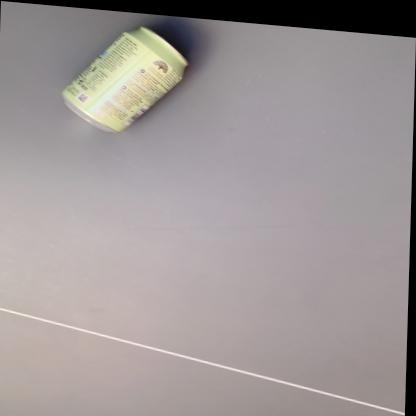trash: (63, 27, 187, 131)
